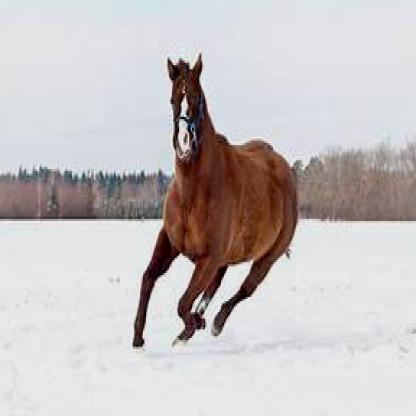horse: (129, 50, 299, 351)
